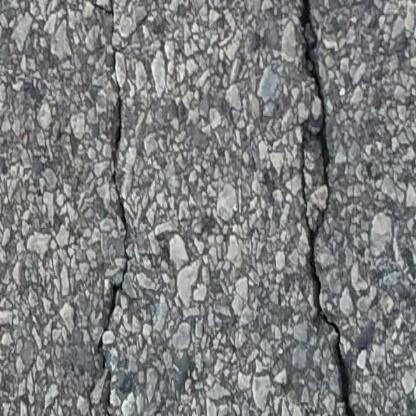Cracks: (296, 0, 362, 416), (80, 0, 137, 416)
